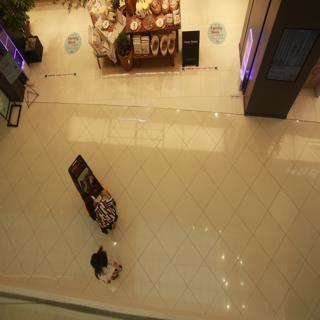person: (78, 189, 125, 236), (83, 248, 126, 291)
